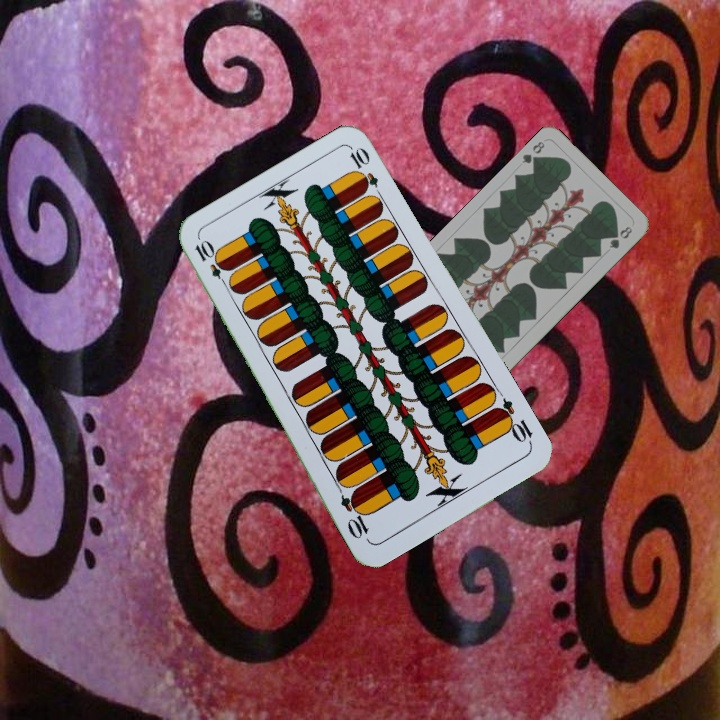E10: (490, 394, 535, 448), (190, 236, 233, 291)
G8: (518, 137, 547, 169)
